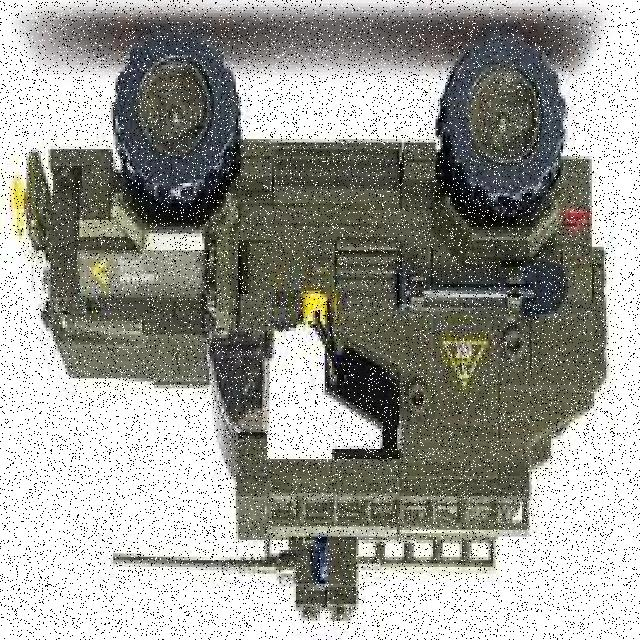MIL_MBT: (26, 28, 614, 626)
